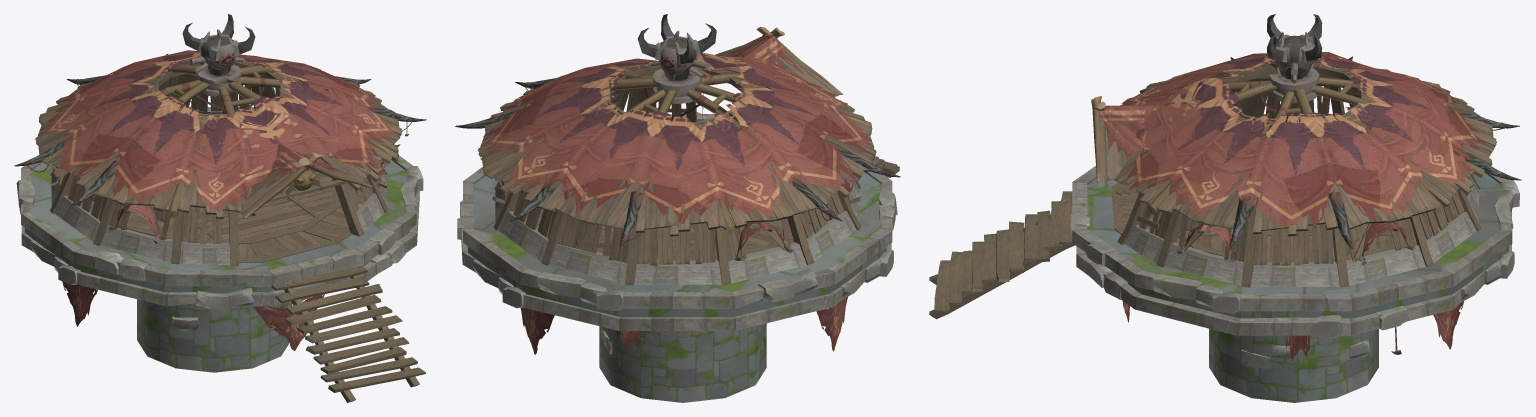
Rendered from Hilichurl Big House Fixed.fbx.
The picture shows the model from 3 angles, left to right: view 1: azimuth 30°, elevation 25°; view 2: azimuth 150°, elevation 25°; view 3: azimuth 270°, elevation 25°; orthographic projection. The views are drawn at different scales.
Visible parts, largest first — view 1: Roof Fabric, Big House, Ladde, Rood Wood, Column, Beams, Frame, Wall 2, Wall 1, Wall 3, Wall 11, Wall 7; view 2: Roof Fabric, Big House, Rood Wood, Column, Beams, Wall 5, Wall 6, Frame, Wall 4, Wall 7, Wall 3, Wall 2; view 3: Roof Fabric, Big House, Rood Wood, Column, Beams, Ladde, Wall 9, Frame, Wall 8, Wall 10, Wall 7, Wall 11 (+1 smaller).
Boxes of the visible parts, box(x1,y1,x2,y2) form: Roof Fabric: box(40, 50, 397, 212); Big House: box(16, 107, 423, 350); Ladde: box(271, 265, 425, 402); Rood Wood: box(35, 60, 402, 218); Column: box(137, 299, 292, 372); Beams: box(14, 14, 426, 217); Frame: box(50, 73, 388, 265); Wall 2: box(100, 202, 172, 262); Wall 1: box(179, 206, 230, 265); Wall 3: box(54, 175, 107, 241); Wall 11: box(346, 177, 384, 231); Wall 7: box(182, 74, 250, 113); Roof Fabric: box(483, 38, 871, 223); Big House: box(457, 112, 897, 354); Rood Wood: box(478, 26, 876, 236); Column: box(599, 323, 767, 402); Beams: box(455, 14, 900, 247); Wall 5: box(634, 218, 721, 284); Wall 6: box(549, 214, 629, 283); Frame: box(494, 73, 861, 285); Wall 4: box(717, 218, 806, 283); Wall 7: box(498, 190, 556, 261); Wall 3: box(799, 191, 856, 260); Wall 2: box(843, 158, 873, 221); Roof Fabric: box(1100, 52, 1490, 228); Big House: box(1070, 114, 1519, 360); Rood Wood: box(1091, 60, 1496, 236); Column: box(1209, 328, 1378, 402); Beams: box(1146, 14, 1521, 254); Ladde: box(929, 191, 1074, 319); Wall 9: box(1250, 224, 1339, 286); Frame: box(1117, 72, 1480, 287); Wall 8: box(1346, 218, 1425, 285); Wall 10: box(1164, 215, 1248, 285); Wall 7: box(1419, 191, 1476, 262); Wall 11: box(1125, 204, 1171, 263).
Size of the model in its own units: 1886 by 1588 by 2460.
